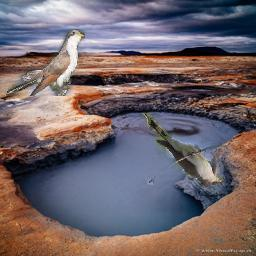Cuckoo: (142, 113, 224, 187), (7, 30, 86, 97)
